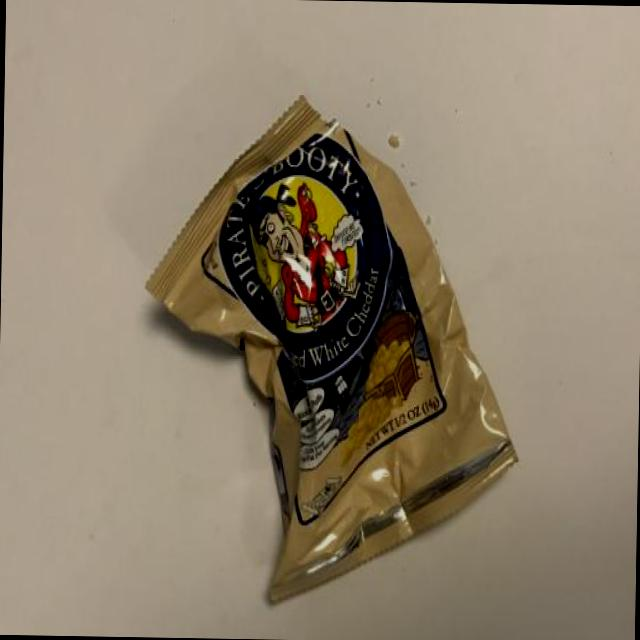Trash: (135, 87, 530, 614)
